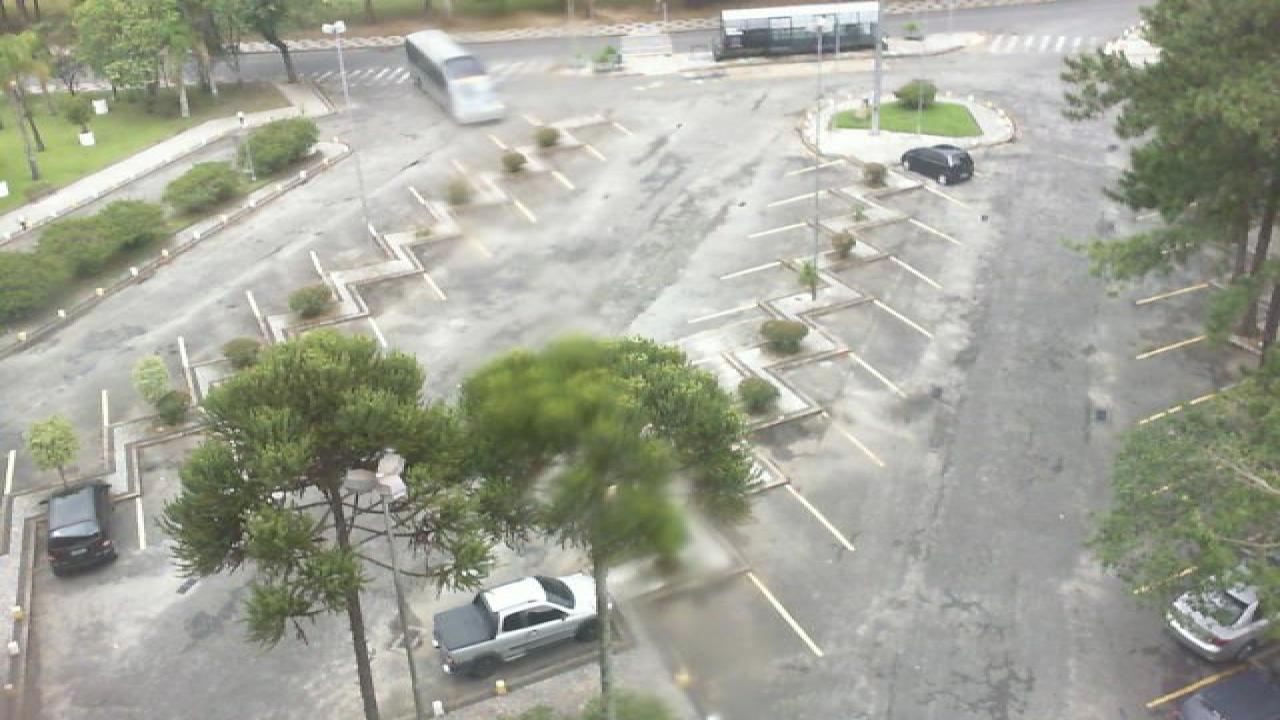Car: (430, 572, 606, 678), (1164, 564, 1280, 662), (38, 480, 118, 575), (896, 144, 976, 186)
